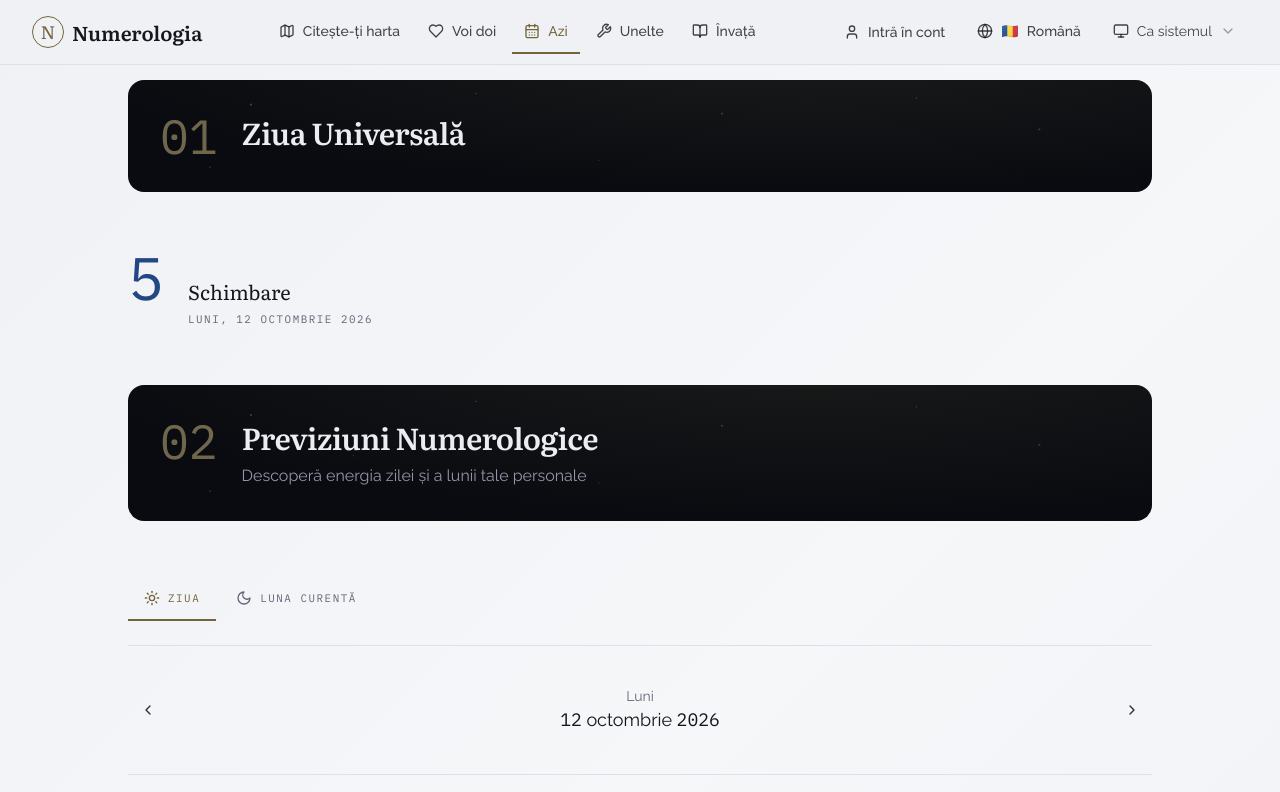
Scenario: /azi — luna, săptămâna și anul, în limba paginii › arată săptămâna ca șapte zile personale, fără medie
This screenshot has width=1280, height=792.
Press the mouse on the tab "Luna Curentă": (296, 599) top-left (220, 577), bottom-right (373, 621)
(page scrolled)
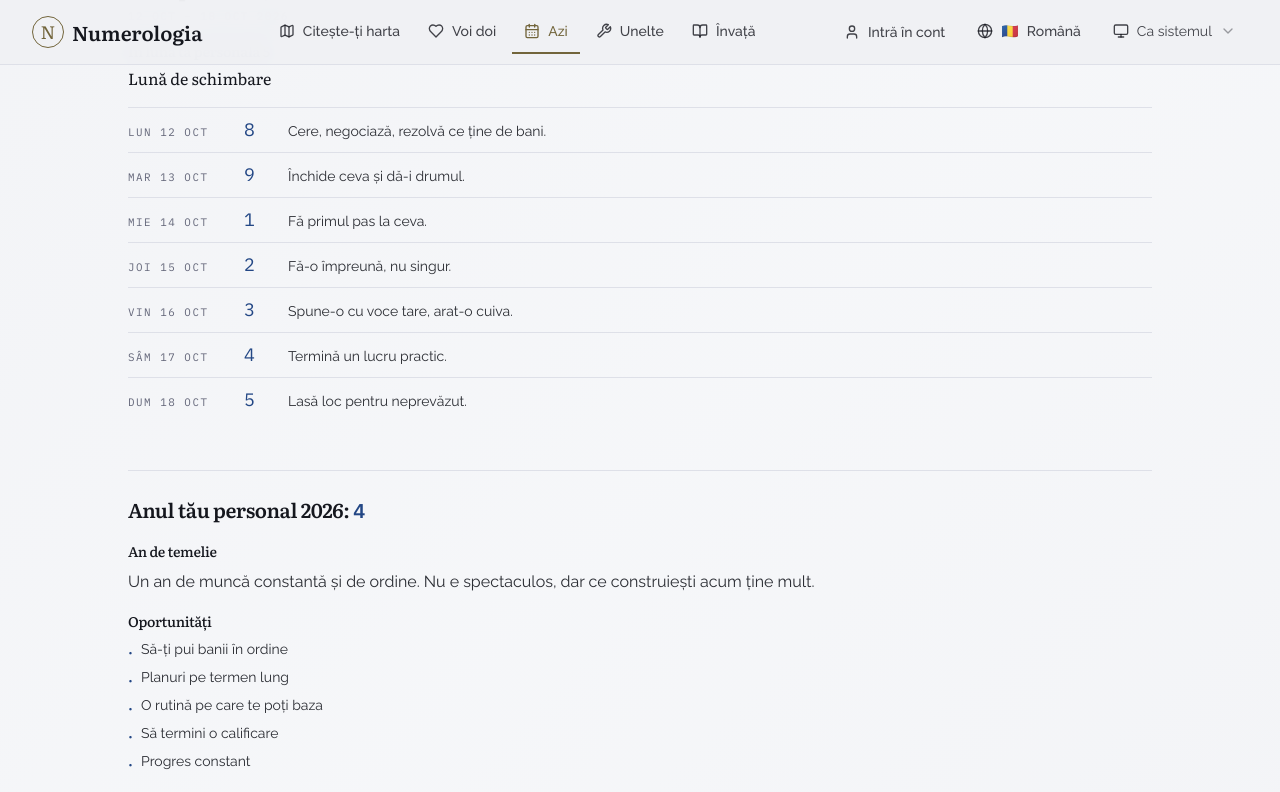
Now the list that starts with "lun 12 oct" is shown, box top-left (128, 107), bottom-right (1152, 422)
